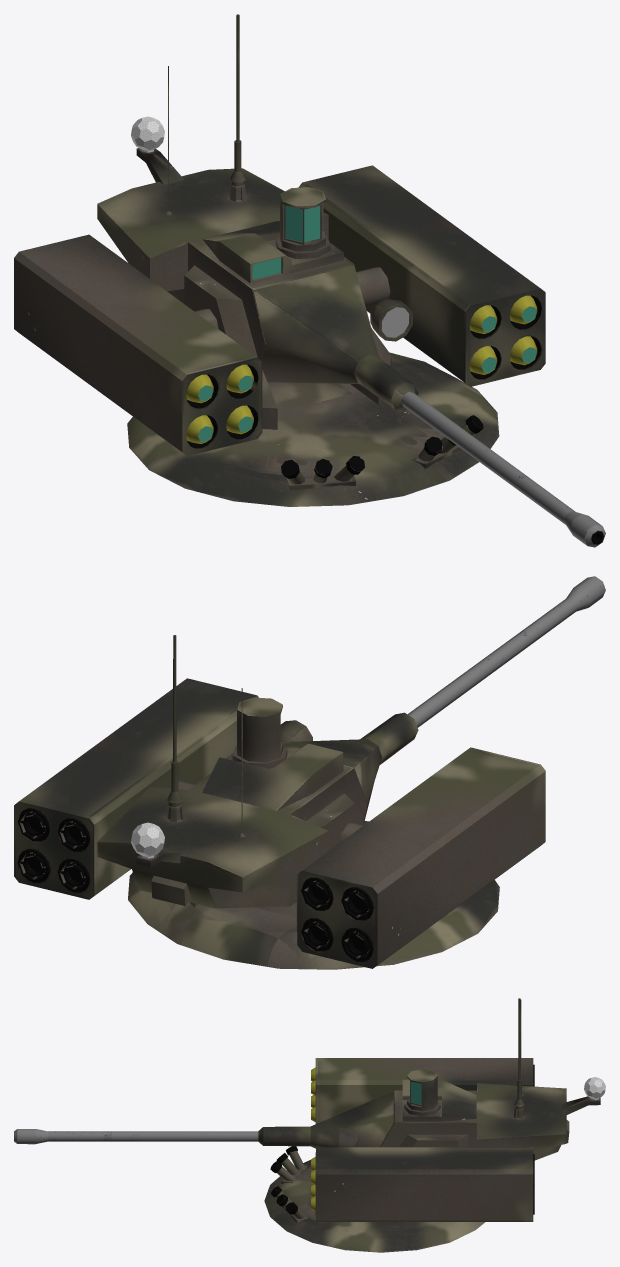
File: autocannon.fbx
The picture shows the model from 3 angles, top to bottom: view 1: azimuth 30°, elevation 25°; view 2: azimuth 150°, elevation 25°; view 3: azimuth 270°, elevation 25°; orthographic projection. The views are drawn at different scales.
Visible parts, largest first — view 1: cannon_LOD0, turret_LOD0, barrel_LOD0, camera_LOD0; view 2: cannon_LOD0, turret_LOD0, barrel_LOD0, camera_LOD0, atgm5_LOD0, atgm7_LOD0, atgm8_LOD0, atgm1_LOD0, atgm6_LOD0, atgm3_LOD0, atgm2_LOD0, atgm4_LOD0; view 3: cannon_LOD0, turret_LOD0, barrel_LOD0, camera_LOD0.
Boxes of the visible parts, box(x1,y1,x2,y2) form: cannon_LOD0: box(14, 14, 545, 455); turret_LOD0: box(127, 265, 499, 506); barrel_LOD0: box(401, 392, 605, 547); camera_LOD0: box(275, 187, 330, 258); cannon_LOD0: box(14, 635, 545, 968); turret_LOD0: box(128, 793, 499, 969); barrel_LOD0: box(343, 576, 605, 772); camera_LOD0: box(232, 697, 287, 768); atgm5_LOD0: box(301, 877, 333, 910); atgm7_LOD0: box(301, 918, 333, 951); atgm8_LOD0: box(341, 928, 373, 961); atgm1_LOD0: box(17, 808, 49, 841); atgm6_LOD0: box(341, 887, 373, 920); atgm3_LOD0: box(17, 849, 49, 882); atgm2_LOD0: box(58, 818, 89, 851); atgm4_LOD0: box(58, 859, 89, 891); cannon_LOD0: box(258, 998, 605, 1221); turret_LOD0: box(264, 1134, 485, 1252); barrel_LOD0: box(14, 1129, 258, 1144); camera_LOD0: box(404, 1069, 440, 1116).
Size of what is drawn, in the model's own units: 2.67 by 2.31 by 5.84.
